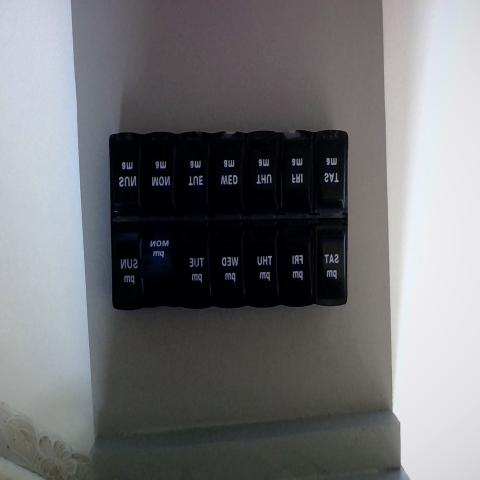FRI-am: (282, 131, 310, 208)
FRI-pm: (278, 215, 312, 302)
MON-am: (146, 140, 180, 221)
Open: (145, 234, 178, 308)
PillBox: (95, 111, 368, 342)
SAT-am: (314, 129, 349, 211)
SAT-pm: (312, 220, 348, 303)
SUN-am: (112, 141, 145, 227)
SUN-pm: (112, 228, 146, 311)
THU-am: (244, 133, 277, 216)
THU-pm: (241, 224, 277, 302)
TUE-am: (180, 140, 211, 220)
TUE-pm: (180, 229, 212, 306)
WED-am: (210, 136, 243, 219), (211, 229, 242, 309)
